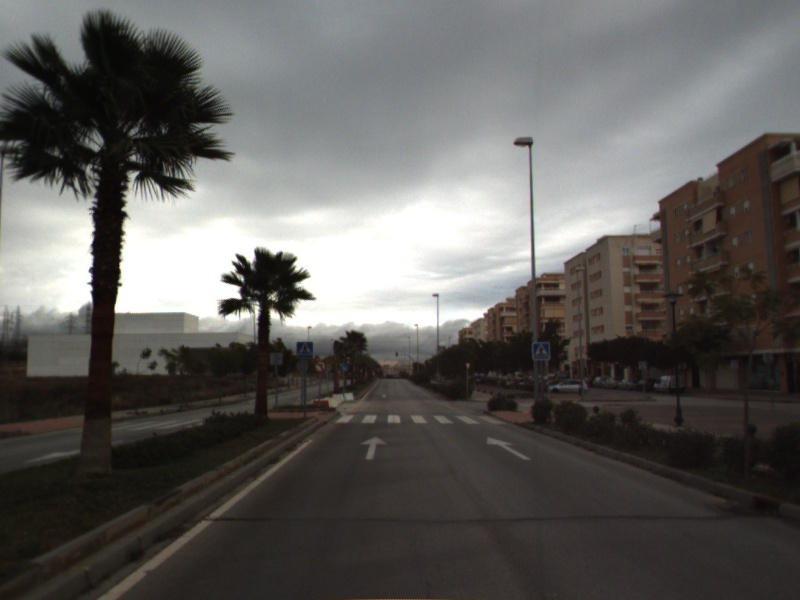STRAIGHT: (485, 435, 533, 462), (358, 434, 389, 461)
